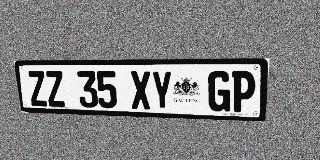3: (77, 71, 98, 108)
5: (96, 71, 118, 109)
G: (208, 71, 231, 112)
P: (231, 71, 256, 113)
X: (130, 71, 151, 110)
Y: (151, 71, 173, 110)
Z: (44, 71, 66, 107), (27, 71, 48, 106)
